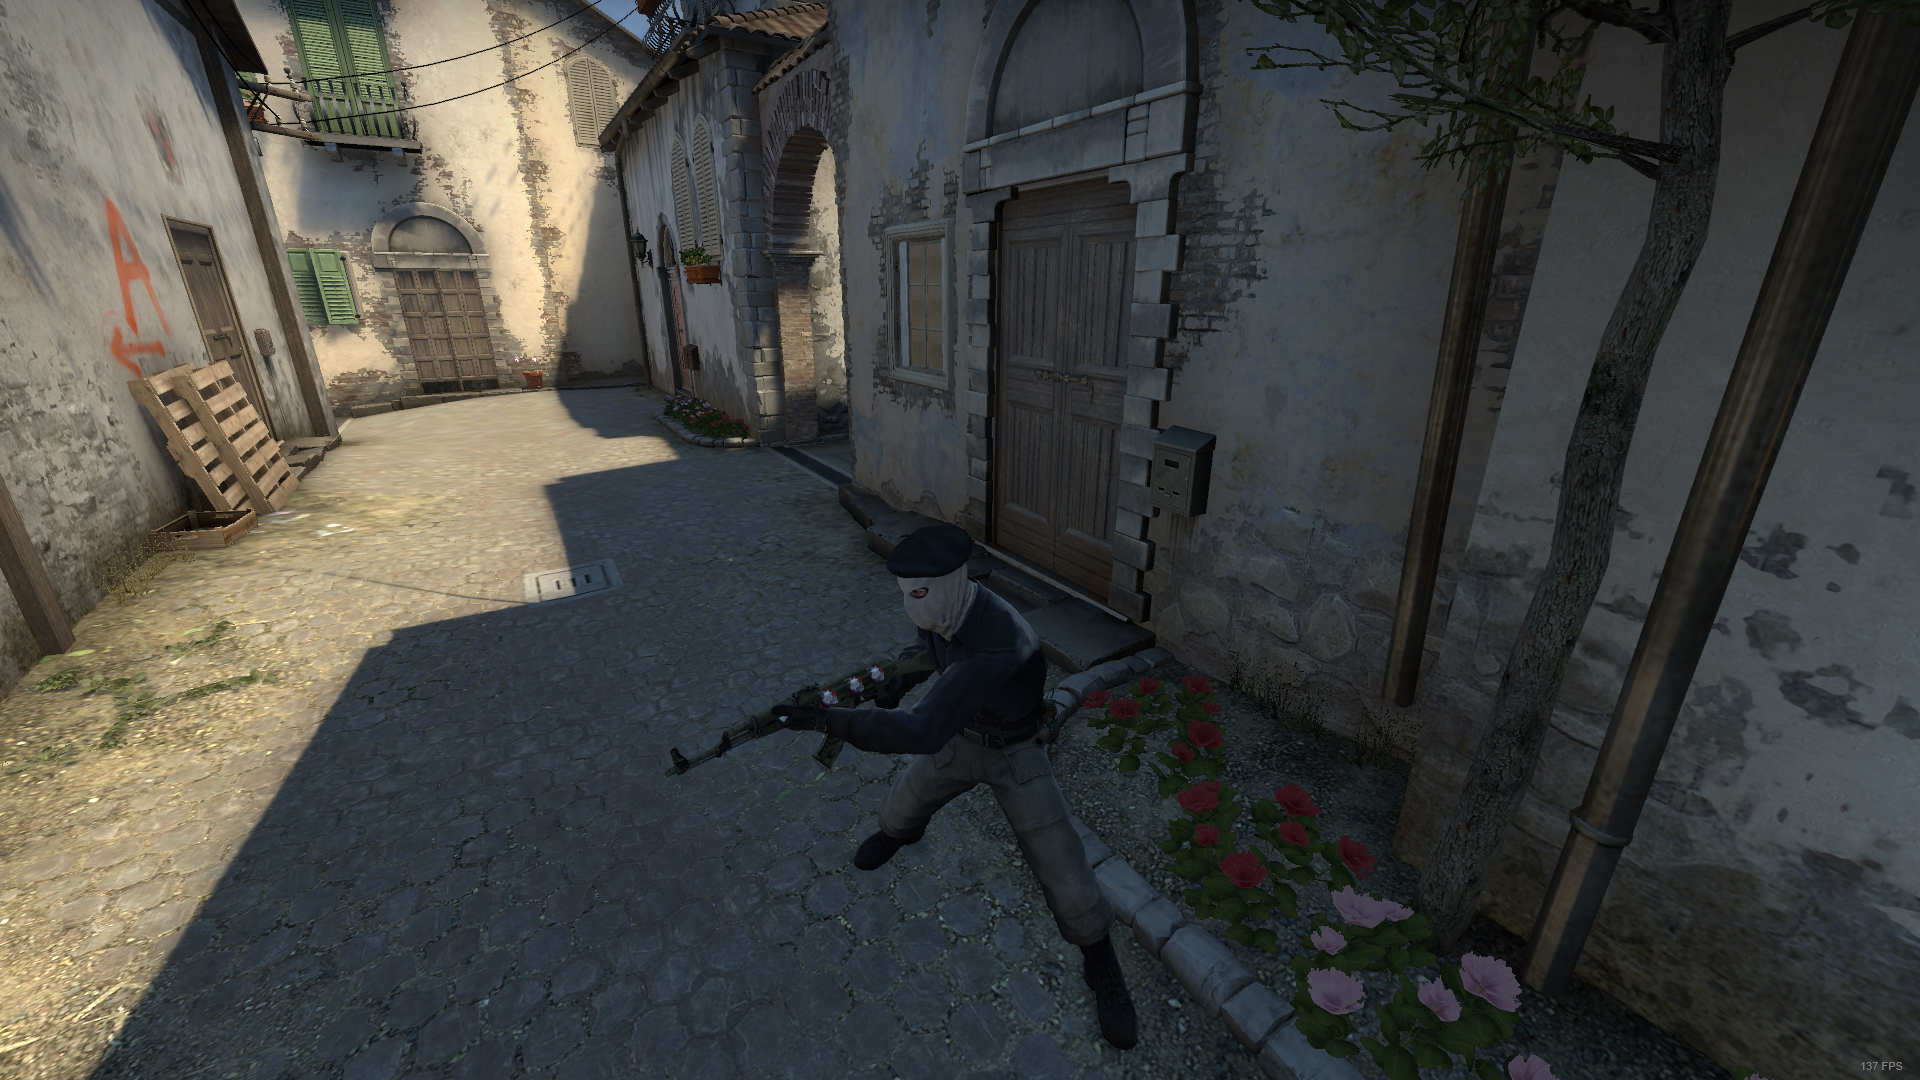t: (822, 517, 1155, 1067)
